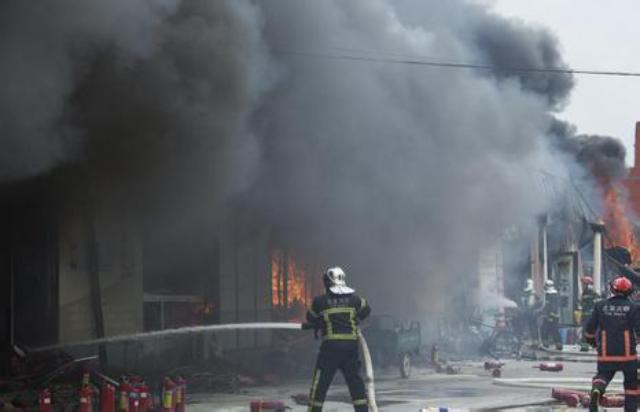fire: (286, 253, 300, 301), (268, 247, 278, 303)
